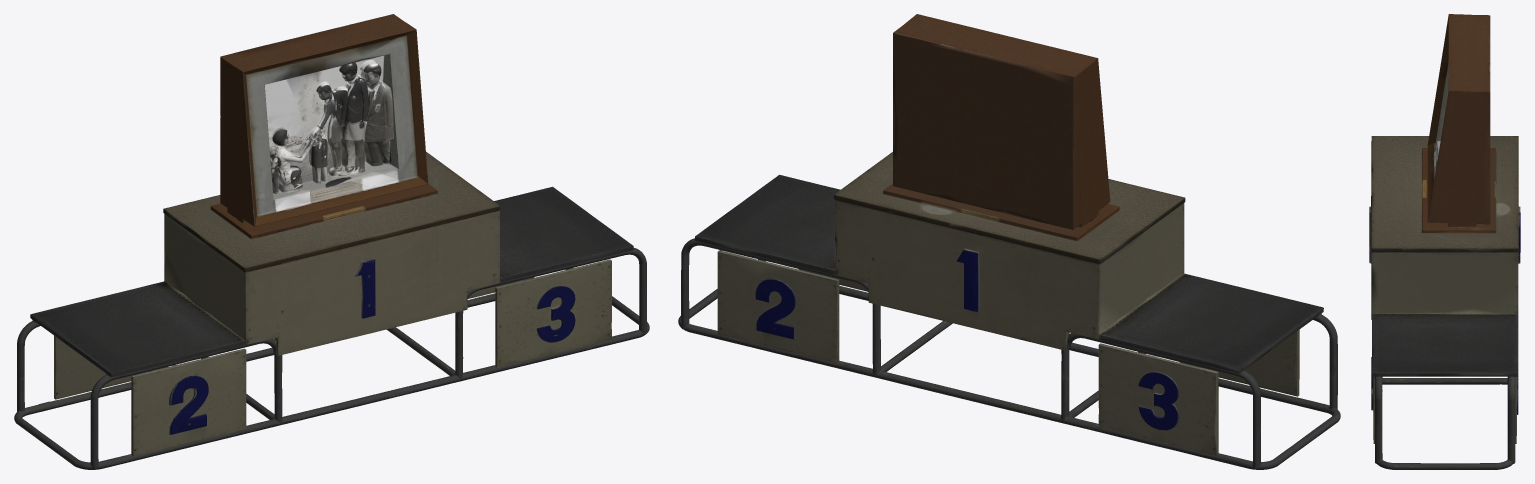
File: podium.glb
3 views of the same model, side by side, from view 1: azimuth 30°, elevation 25°; view 2: azimuth 150°, elevation 25°; view 3: azimuth 270°, elevation 25° (orthographic). The views are drawn at different scales.
Size of the model in its own units: 1.9 by 1.03 by 0.4804.
1 material, 1 textured.
